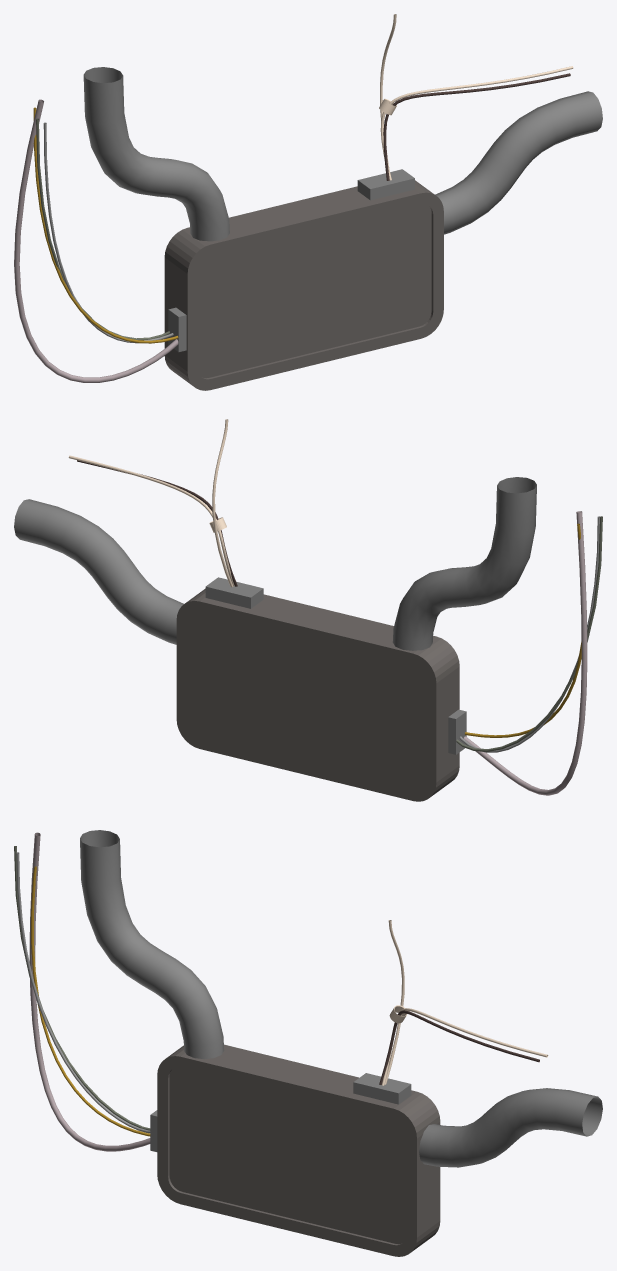
The model's file is depth_meter.fbx.
3 renders of one model, top to bottom at view 1: azimuth 30°, elevation 25°; view 2: azimuth 150°, elevation 25°; view 3: azimuth 330°, elevation 25°, orthographic.
Visible parts, largest first — view 1: Cube.001; view 2: Cube.001; view 3: Cube.001.
Part boxes in pixels (box(x1,y1,x2,y2)): Cube.001: box(14, 14, 602, 390); Cube.001: box(14, 419, 602, 801); Cube.001: box(14, 830, 602, 1256).
Size of the model in its own units: 661 by 365 by 59.03.
